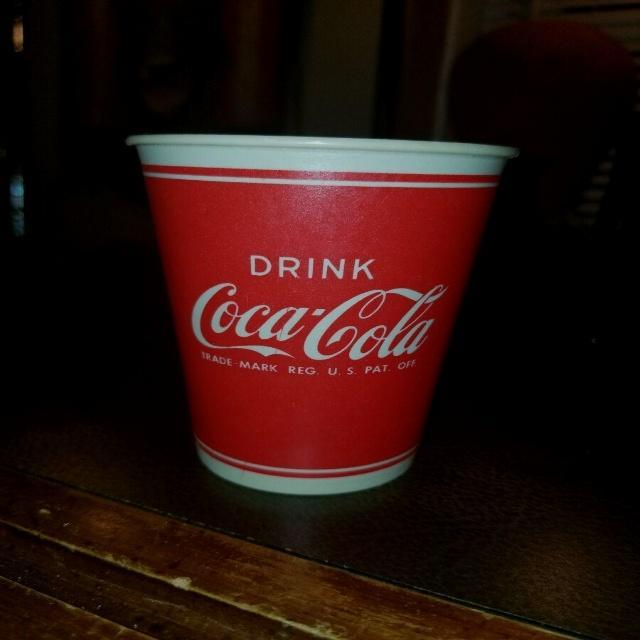paper_cup: (120, 117, 516, 514)
